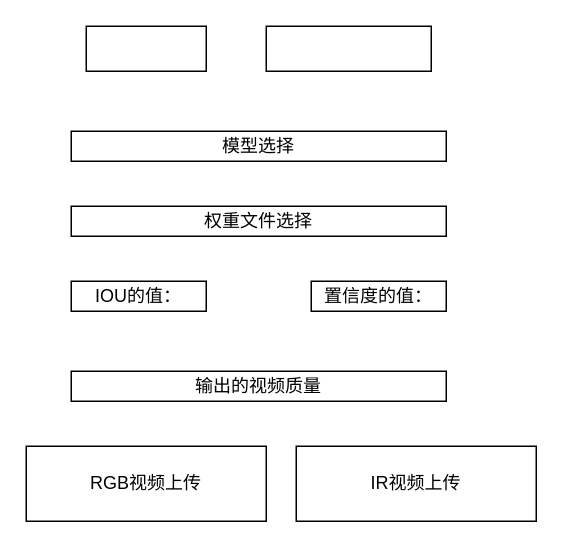
Some shapes in this 563 by 548 pixel diagram are drawn without their labels. Each missing label, with the centre of its shape:
RGB与IR图像检测: (348,48)
RGB图像检测: (145,48)
